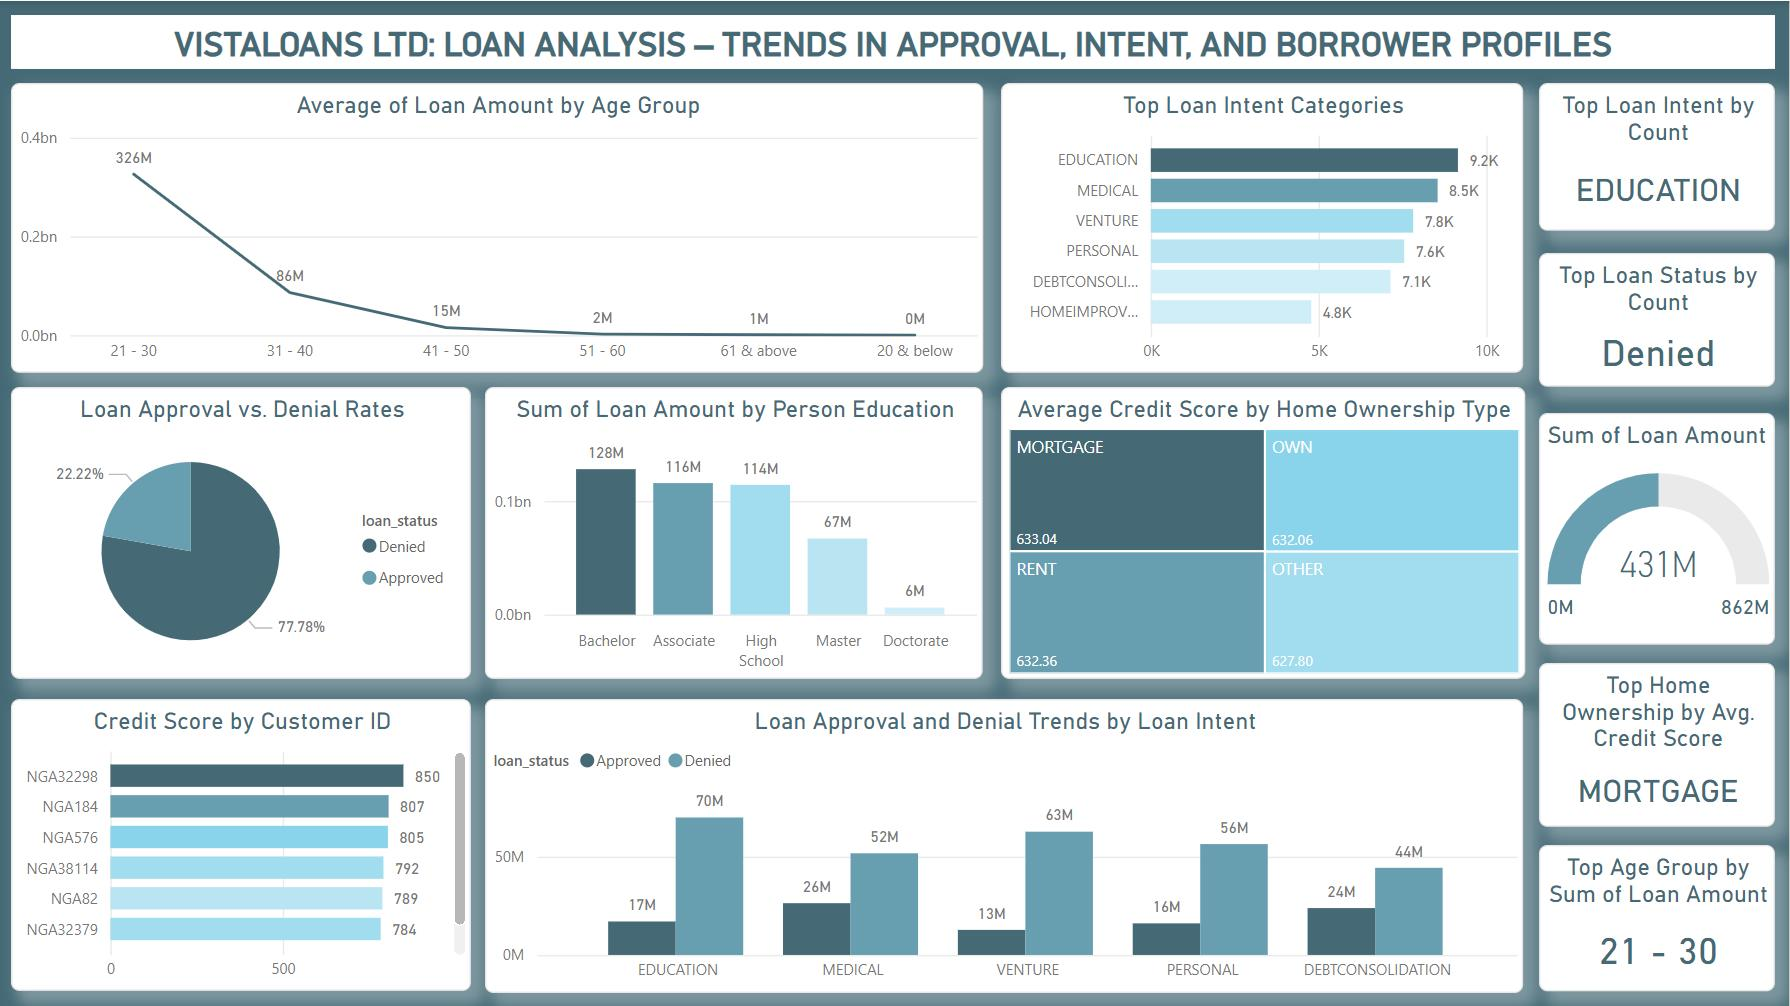

What the dashboard file says about the page in this screenshot:
{"tool":"powerbi","page":{"name":"ANALYTICAL REPORT","canvas":[1280,720],"ordinal":0},"visuals":[{"type":"lineChart","title":"Average of Loan Amount by Age Group","fields":{"Category":["Copy of Copy_of_loan_data(1)(1).Age Group"],"Y":["Sum(Copy of Copy_of_loan_data(1)(1).loan_amnt)"]},"box":[10,58.6,694.3,207.1],"z":0},{"type":"barChart","title":" Credit Score by Customer ID","fields":{"Category":["Copy of Copy_of_loan_data(1)(1).customer -id"],"Y":["Sum(Copy of Copy_of_loan_data(1)(1).credit_score)"]},"box":[10,498.6,328.6,208.6],"z":1000},{"type":"barChart","title":"Top Loan Intent Categories","fields":{"Category":["Copy of Copy_of_loan_data(1)(1).loan_intent"],"Y":["CountNonNull(Copy of Copy_of_loan_data(1)(1).loan_intent)"]},"box":[717.1,58.6,372.9,207.1],"z":2000},{"type":"clusteredColumnChart","title":"Sum of Loan Amount by Person Education","fields":{"Y":["Sum(Copy of Copy_of_loan_data(1)(1).loan_amnt)"],"Category":["Copy of Copy_of_loan_data(1)(1).person_education"]},"box":[348.6,275.7,355.7,208.6],"z":3000},{"type":"pieChart","title":"Loan Approval vs. Denial Rates","fields":{"Category":["Copy of Copy_of_loan_data(1)(1).loan_status"],"Y":["CountNonNull(Copy of Copy_of_loan_data(1)(1).loan_status)"]},"box":[10,275.7,328.6,208.6],"z":4000},{"type":"clusteredColumnChart","title":"Loan Approval and Denial Trends by Loan Intent","fields":{"Y":["Sum(Copy of Copy_of_loan_data(1)(1).loan_amnt)"],"Category":["Copy of Copy_of_loan_data(1)(1).loan_intent"],"Series":["Copy of Copy_of_loan_data(1)(1).loan_status"]},"box":[348.6,498.6,741.4,210],"z":5000},{"type":"treemap","title":"Average Credit Score by Home Ownership Type","fields":{"Group":["Copy of Copy_of_loan_data(1)(1).person_home_ownership"],"Values":["Avg(Copy of Copy_of_loan_data(1)(1).credit_score)"]},"box":[717.1,275.7,374.3,208.6],"z":6000},{"type":"textbox","title":"VISTALOANS LTD: LOAN ANALYSIS – TRENDS IN APPROVAL, INTENT, AND BORROWER PROFILES","box":[10,10,1260,38.6],"z":7000},{"type":"card","title":"Top Loan Intent by Count","fields":{"Values":["Min(Copy of Copy_of_loan_data(1)(1).loan_intent)"]},"box":[1101.4,58.6,168.6,105.7],"z":8000},{"type":"card","title":"Top Loan Status by Count","fields":{"Values":["Min(Copy of Copy_of_loan_data(1)(1).loan_status)"]},"box":[1101.4,180,168.6,95.7],"z":9000},{"type":"gauge","title":"Sum of Loan Amount","fields":{"Y":["Sum(Copy of Copy_of_loan_data(1)(1).loan_amnt)"]},"box":[1101.4,294.3,168.6,165.7],"z":10000},{"type":"card","title":"Top Home Ownership by Avg. Credit Score","fields":{"Values":["Min(Copy of Copy_of_loan_data(1)(1).person_home_ownership)"]},"box":[1101.4,472.9,168.6,117.1],"z":11000},{"type":"card","title":"Top Age Group by Sum of  Loan Amount","fields":{"Values":["Min(Copy of Copy_of_loan_data(1)(1).Age Group)"]},"box":[1101.4,602.9,168.6,104.3],"z":12000}]}

Visuals, with their boxes in screenshot pixels (x1, y1, x2, y2), scaled from the page's 1280x720 canvas onto the 1790x1006 screenshot:
"Average of Loan Amount by Age Group" lineChart: x1=14, y1=82, x2=985, y2=371
" Credit Score by Customer ID" barChart: x1=14, y1=697, x2=474, y2=988
"Top Loan Intent Categories" barChart: x1=1003, y1=82, x2=1524, y2=371
"Sum of Loan Amount by Person Education" clusteredColumnChart: x1=487, y1=385, x2=985, y2=677
"Loan Approval vs. Denial Rates" pieChart: x1=14, y1=385, x2=474, y2=677
"Loan Approval and Denial Trends by Loan Intent" clusteredColumnChart: x1=487, y1=697, x2=1524, y2=990
"Average Credit Score by Home Ownership Type" treemap: x1=1003, y1=385, x2=1526, y2=677
"VISTALOANS LTD: LOAN ANALYSIS – TRENDS IN APPROVAL, INTENT, AND BORROWER PROFILES" textbox: x1=14, y1=14, x2=1776, y2=68
"Top Loan Intent by Count" card: x1=1540, y1=82, x2=1776, y2=230
"Top Loan Status by Count" card: x1=1540, y1=252, x2=1776, y2=385
"Sum of Loan Amount" gauge: x1=1540, y1=411, x2=1776, y2=643
"Top Home Ownership by Avg. Credit Score" card: x1=1540, y1=661, x2=1776, y2=824
"Top Age Group by Sum of  Loan Amount" card: x1=1540, y1=842, x2=1776, y2=988
